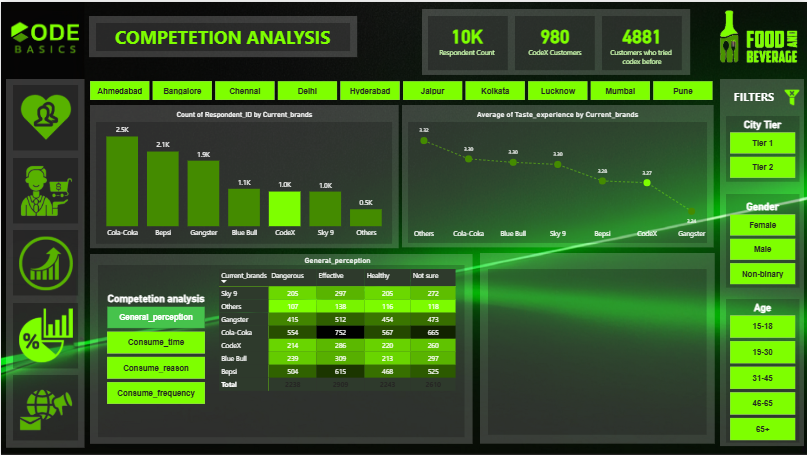

What the dashboard file says about the page in this screenshot:
{"tool":"powerbi","page":{"name":"competetion analysis","canvas":[1920,1080],"ordinal":3},"visuals":[{"type":"shape","box":[1003.4,17,638.6,157],"z":0,"group":"g6"},{"type":"shape","box":[208.7,33.4,638.6,98],"z":0,"group":"g5"},{"type":"shape","box":[11.1,184.2,187,878],"z":0,"group":"g7"},{"type":"shape","box":[1711,184.2,200.3,874.4],"z":0,"group":"g8"},{"type":"shape","box":[955.3,244.9,742.4,339.2],"z":0,"group":"g4"},{"type":"shape","box":[212.2,245,735,341],"z":0,"group":"g2"},{"type":"shape","box":[1140.5,598.5,558.9,454.4],"z":0,"group":"g3"},{"type":"group","id":"g1","title":"Group 1","box":[212.9,599,910.9,452.3],"z":0},{"type":"shape","box":[1431.3,32.8,190,129],"z":1000,"group":"g6"},{"type":"shape","box":[225.5,49,605,66.8],"z":1000,"group":"g5"},{"type":"image","box":[36.5,206.7,138.3,139.7],"z":1000,"group":"g7"},{"type":"group","id":"g2","title":"Group 3","box":[207.2,245,745,341],"z":1000},{"type":"shape","box":[1725.5,273.3,175.3,156.5],"z":1000,"group":"g8"},{"type":"shape","box":[227.2,284.5,705,290],"z":1000,"group":"g2"},{"type":"shape","box":[970.5,285.3,712.1,288.5],"z":1000,"group":"g4"},{"type":"shape","box":[212.9,599,910.9,452.3],"z":1000,"group":"g1"},{"type":"shape","box":[1160.2,637.5,520.5,394.7],"z":1000,"group":"g3"},{"type":"lineChart","fields":{"Category":["fact_survey_responses.Current_brands"],"Y":["Avg(fact_survey_responses.Taste_experience)"]},"box":[959.1,256.2,732.3,315.1],"z":1500,"group":"g4"},{"type":"clusteredColumnChart","fields":{"Category":["fact_survey_responses.Current_brands"],"Y":["CountNonNull(dim_repondents.Respondent_ID)"]},"box":[207.2,257.9,745,311.7],"z":1500,"group":"g2"},{"type":"card","fields":{"Values":["Key Measures.Customers who tried codex before"]},"box":[1441.3,0,171.1,175],"z":2000,"group":"g6"},{"type":"textbox","box":[235.9,48.9,584.2,67],"z":2000,"group":"g5"},{"type":"advancedSlicerVisual","fields":{"Values":["dim_cities.City"]},"box":[206.5,183,1497.6,55.5],"z":2000},{"type":"image","box":[36.5,379.5,138.3,139.7],"z":2000,"group":"g7"},{"type":"shape","box":[232.9,625.4,872.6,410.3],"z":2000,"group":"g1"},{"type":"shape","box":[1725.5,707.4,175.3,342.3],"z":2000,"group":"g8"},{"type":"pivotTable","fields":{"Columns":["fact_survey_responses.General_perception"],"Values":["CountNonNull(dim_repondents.Respondent_ID)"],"Rows":["fact_survey_responses.Current_brands"]},"box":[514.9,603.3,574.8,421.6],"z":2250,"group":"g1"},{"type":"advancedSlicerVisual","fields":{"Values":["Competetion analysis.Competetion analysis"]},"box":[249.4,691.4,243.3,271.7],"z":2500,"group":"g1"},{"type":"shape","box":[1223.9,32.8,190,129],"z":3000,"group":"g6"},{"type":"shape","box":[1725.5,459,175.3,223.3],"z":3000,"group":"g8"},{"type":"image","box":[36.5,552.4,138.3,139.7],"z":3000,"group":"g7"},{"type":"group","id":"g3","title":"Group 3","box":[1140.5,598.5,558.9,454.4],"z":3000},{"type":"card","fields":{"Values":["Key Measures.Measure 2"]},"box":[1233.3,0,171,175],"z":4000,"group":"g6"},{"type":"group","id":"g4","title":"Group 3","box":[955.3,244.9,742.4,339.2],"z":4000},{"type":"advancedSlicerVisual","title":"City Tier","fields":{"Values":["dim_cities.Tier"]},"box":[1730.8,280,165.1,145.7],"z":4000,"group":"g8"},{"type":"image","box":[36.5,898,138.3,139.7],"z":4500,"group":"g7"},{"type":"shape","box":[1016.6,32.8,190,129],"z":5000,"group":"g6"},{"type":"group","id":"g5","title":"Group 5","box":[208.7,33.4,638.6,98.1],"z":5000},{"type":"shape","box":[27.4,198.7,155,155.9],"z":5000,"group":"g7"},{"type":"advancedSlicerVisual","fields":{"Values":["dim_repondents.Gender"]},"box":[1730.8,473.8,165.1,204.4],"z":5000,"group":"g8"},{"type":"card","fields":{"Values":["CountNonNull(dim_repondents.Respondent_ID)"]},"box":[1025.3,0,171,175],"z":6000,"group":"g6"},{"type":"image","box":[8.3,4.2,187.8,158.6],"z":6000},{"type":"shape","box":[27.1,544.3,155,155.9],"z":6000,"group":"g7"},{"type":"advancedSlicerVisual","fields":{"Values":["dim_repondents.Age"]},"box":[1730.8,715.3,165.1,336.9],"z":6000,"group":"g8"},{"type":"image","box":[1690.4,0,229.6,167],"z":7000},{"type":"textbox","box":[1732.3,202.6,119.5,53.3],"z":7000,"group":"g8"},{"type":"shape","box":[27.1,717.1,155,155.9],"z":7000,"group":"g7"},{"type":"image","box":[1853.9,202.4,57.6,49.1],"z":7500,"group":"g8"},{"type":"group","id":"g6","title":"Group 6","box":[1003.4,0,638.6,175],"z":8000},{"type":"shape","box":[27.4,889.9,155,155.9],"z":8000,"group":"g7"},{"type":"group","id":"g7","title":"Group 4","box":[11.1,184.2,188.6,876.6],"z":9000},{"type":"shape","box":[27.1,371.5,155,155.9],"z":9000,"group":"g7"},{"type":"group","id":"g8","title":"Group 2","box":[1711,184.2,199.7,874.3],"z":10000},{"type":"image","box":[36.5,725.2,138.3,139.7],"z":10000,"group":"g7"}]}

Visuals, with their boxes in screenshot pixels (x1, y1, x2, y2), scaled from the page's 1920x1080 canvas onto the 807x455 screenshot:
shape: (x1=422, y1=7, x2=690, y2=73)
shape: (x1=88, y1=14, x2=356, y2=55)
shape: (x1=5, y1=78, x2=83, y2=448)
shape: (x1=719, y1=78, x2=803, y2=446)
shape: (x1=402, y1=103, x2=714, y2=246)
shape: (x1=89, y1=103, x2=398, y2=247)
shape: (x1=479, y1=252, x2=714, y2=444)
"Group 1" group: (x1=89, y1=252, x2=472, y2=443)
shape: (x1=602, y1=14, x2=681, y2=68)
shape: (x1=95, y1=21, x2=349, y2=49)
image: (x1=15, y1=87, x2=73, y2=146)
"Group 3" group: (x1=87, y1=103, x2=400, y2=247)
shape: (x1=725, y1=115, x2=799, y2=181)
shape: (x1=95, y1=120, x2=392, y2=242)
shape: (x1=408, y1=120, x2=707, y2=242)
shape: (x1=89, y1=252, x2=472, y2=443)
shape: (x1=488, y1=269, x2=706, y2=435)
lineChart - fact_survey_responses.Current_brands x Avg(fact_survey_responses.Taste_experience): (x1=403, y1=108, x2=711, y2=241)
clusteredColumnChart - fact_survey_responses.Current_brands x CountNonNull(dim_repondents.Respondent_ID): (x1=87, y1=109, x2=400, y2=240)
card - Key Measures.Customers who tried codex before: (x1=606, y1=0, x2=678, y2=74)
textbox: (x1=99, y1=21, x2=345, y2=49)
advancedSlicerVisual - dim_cities.City: (x1=87, y1=77, x2=716, y2=100)
image: (x1=15, y1=160, x2=73, y2=219)
shape: (x1=98, y1=263, x2=465, y2=436)
shape: (x1=725, y1=298, x2=799, y2=442)
pivotTable - fact_survey_responses.General_perception x CountNonNull(dim_repondents.Respondent_ID): (x1=216, y1=254, x2=458, y2=432)
advancedSlicerVisual - Competetion analysis.Competetion analysis: (x1=105, y1=291, x2=207, y2=406)
shape: (x1=514, y1=14, x2=594, y2=68)
shape: (x1=725, y1=193, x2=799, y2=287)
image: (x1=15, y1=233, x2=73, y2=292)
"Group 3" group: (x1=479, y1=252, x2=714, y2=444)
card - Key Measures.Measure 2: (x1=518, y1=0, x2=590, y2=74)
"Group 3" group: (x1=402, y1=103, x2=714, y2=246)
"City Tier" advancedSlicerVisual: (x1=727, y1=118, x2=797, y2=179)
image: (x1=15, y1=378, x2=73, y2=437)
shape: (x1=427, y1=14, x2=507, y2=68)
"Group 5" group: (x1=88, y1=14, x2=356, y2=55)
shape: (x1=12, y1=84, x2=77, y2=149)
advancedSlicerVisual - dim_repondents.Gender: (x1=727, y1=200, x2=797, y2=286)
card - CountNonNull(dim_repondents.Respondent_ID): (x1=431, y1=0, x2=503, y2=74)
image: (x1=3, y1=2, x2=82, y2=69)
shape: (x1=11, y1=229, x2=77, y2=295)
advancedSlicerVisual - dim_repondents.Age: (x1=727, y1=301, x2=797, y2=443)
image: (x1=710, y1=0, x2=806, y2=70)
textbox: (x1=728, y1=85, x2=778, y2=108)
shape: (x1=11, y1=302, x2=77, y2=368)
image: (x1=779, y1=85, x2=803, y2=106)
"Group 6" group: (x1=422, y1=0, x2=690, y2=74)
shape: (x1=12, y1=375, x2=77, y2=441)
"Group 4" group: (x1=5, y1=78, x2=84, y2=447)
shape: (x1=11, y1=157, x2=77, y2=222)
"Group 2" group: (x1=719, y1=78, x2=803, y2=446)
image: (x1=15, y1=306, x2=73, y2=364)
